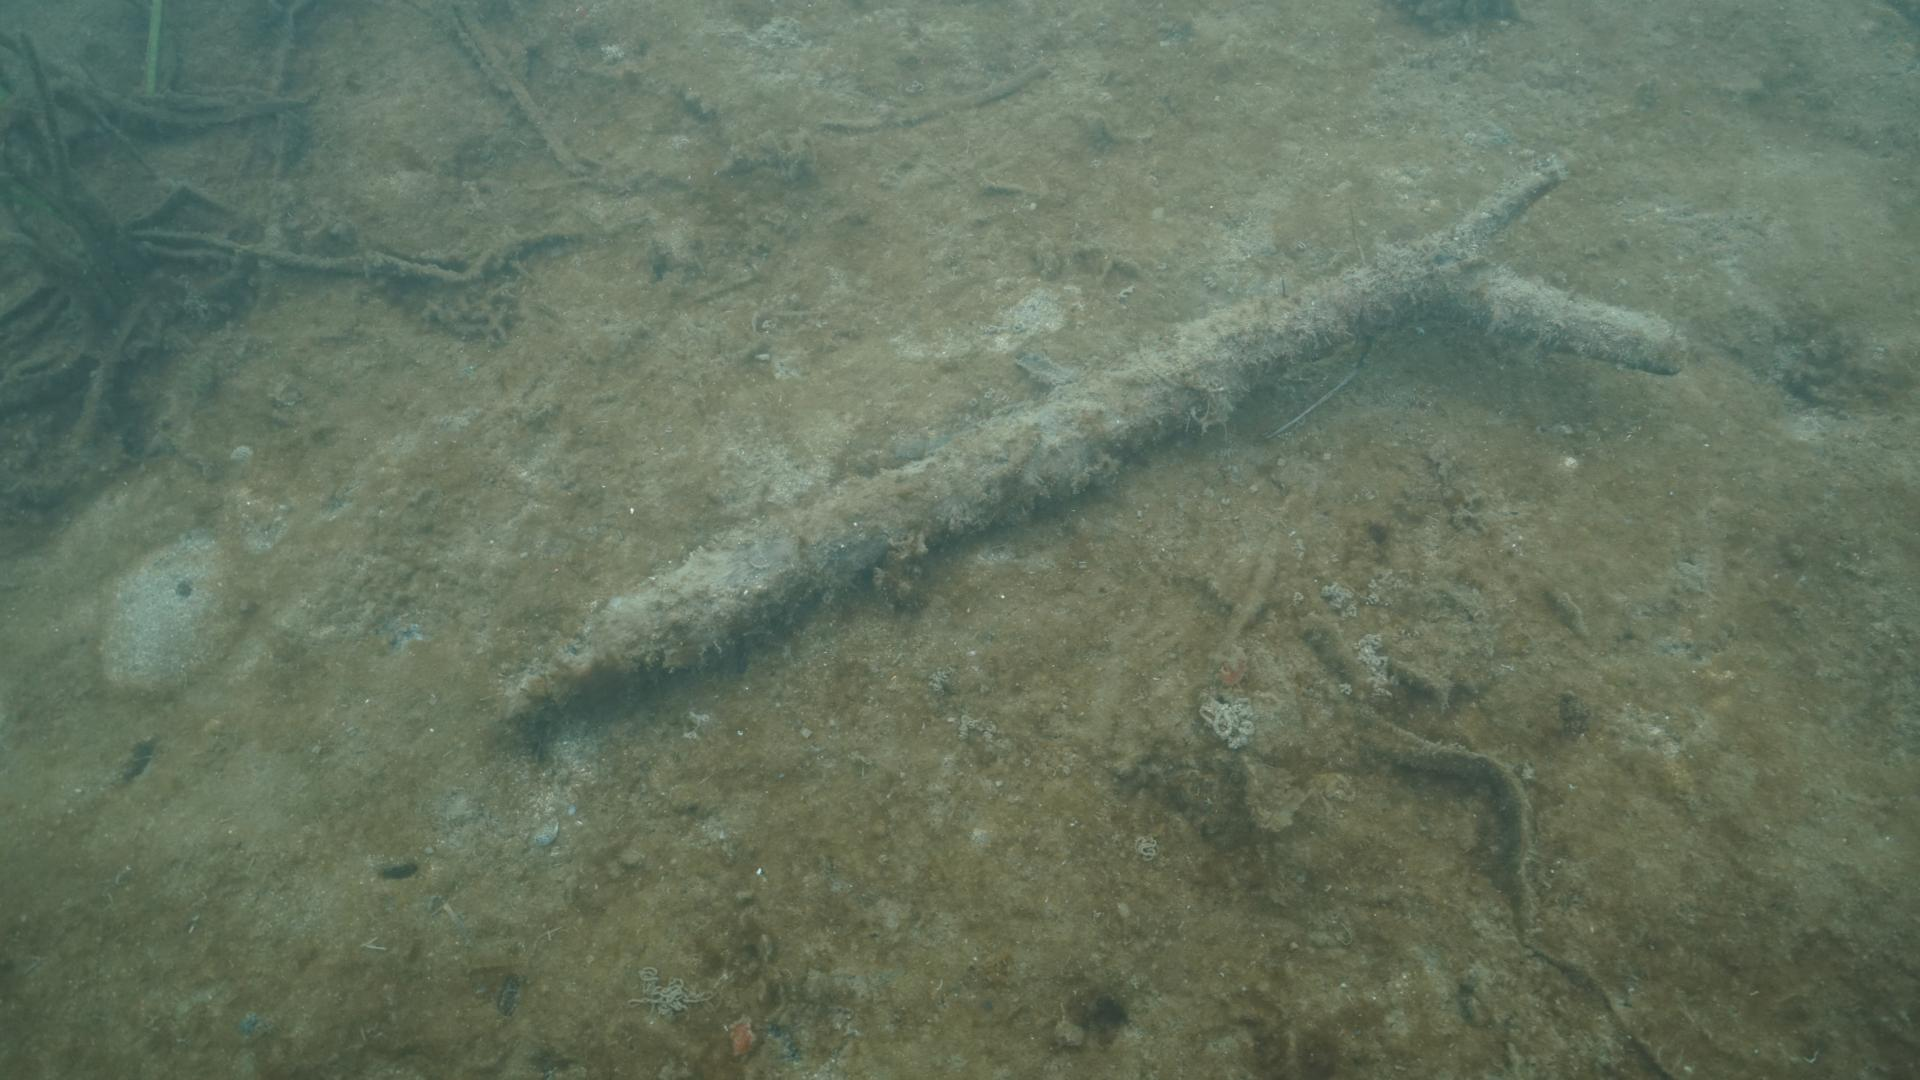wood: (501, 145, 1691, 733)
